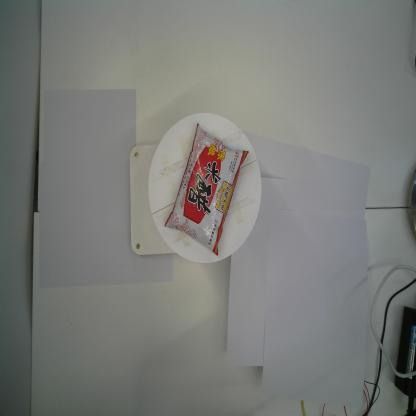Seasoner: (163, 121, 250, 258)
